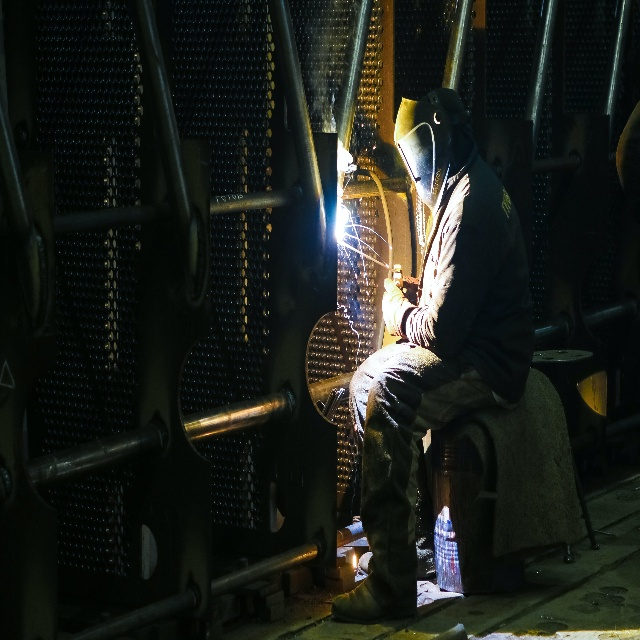Guantes: (382, 277, 416, 341)
